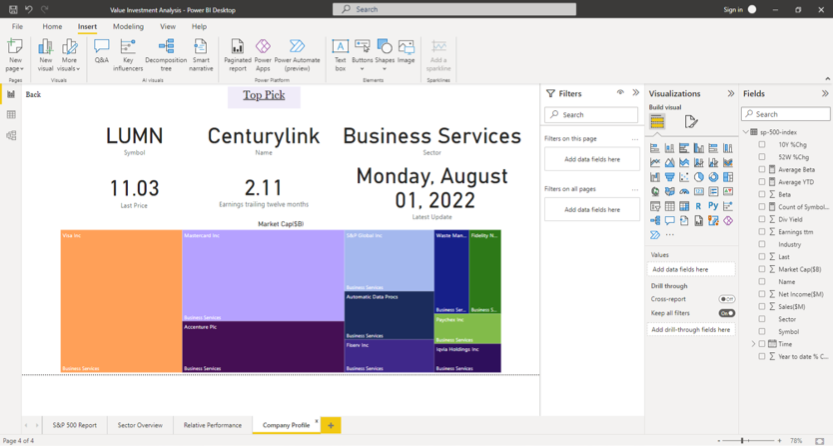

The dashboard page shown, as its layout file describes it:
{"tool":"powerbi","page":{"name":"Company Profile","canvas":[1280,720],"ordinal":3},"visuals":[{"type":"actionButton","box":[0,0,57,53.5],"z":0},{"type":"textbox","box":[508.9,7.7,179.9,54],"z":2000},{"type":"card","fields":{"Values":["Min(sp-500-index.Name)"]},"box":[442.1,61.7,312.3,140.1],"z":5000},{"type":"card","fields":{"Values":["Min(sp-500-index.Sector)"]},"box":[786.5,70.7,454.9,122.1],"z":6000},{"type":"card","fields":{"Values":["Sum(sp-500-index.Last)"]},"box":[145.2,204.3,264.7,115.7],"z":7000},{"type":"card","fields":{"Values":["Sum(sp-500-index.Earnings ttm)"]},"box":[462.7,200.5,271.2,119.5],"z":8000},{"type":"card","fields":{"Values":["Min(sp-500-index.Time)"]},"box":[812.2,177.3,403.5,167.1],"z":9000},{"type":"treemap","title":"Market Cap($B) ","fields":{"Values":["Sum(sp-500-index.Market Cap($B))"],"Group":["sp-500-index.Name"],"Details":["sp-500-index.Sector"]},"box":[91.2,338,1097.5,381.7],"z":9001},{"type":"card","fields":{"Values":["Min(sp-500-index.Symbol)"]},"box":[147.8,61.7,262.2,140.1],"z":9002}]}

Visuals, with their boxes on the page's 1280x720 design canvas (x1, y1, x2, y2). These are canvas units, not pixel positions in the 833x446 screenshot, which may show the page scaled, cropped or inside an application window:
actionButton: box(0, 0, 57, 54)
textbox: box(509, 8, 689, 62)
card - Min(sp-500-index.Name): box(442, 62, 754, 202)
card - Min(sp-500-index.Sector): box(786, 71, 1241, 193)
card - Sum(sp-500-index.Last): box(145, 204, 410, 320)
card - Sum(sp-500-index.Earnings ttm): box(463, 200, 734, 320)
card - Min(sp-500-index.Time): box(812, 177, 1216, 344)
"Market Cap($B) " treemap: box(91, 338, 1189, 720)
card - Min(sp-500-index.Symbol): box(148, 62, 410, 202)
